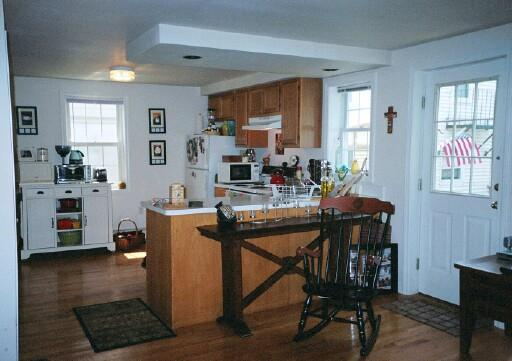Puerta: (422, 75, 499, 311)
